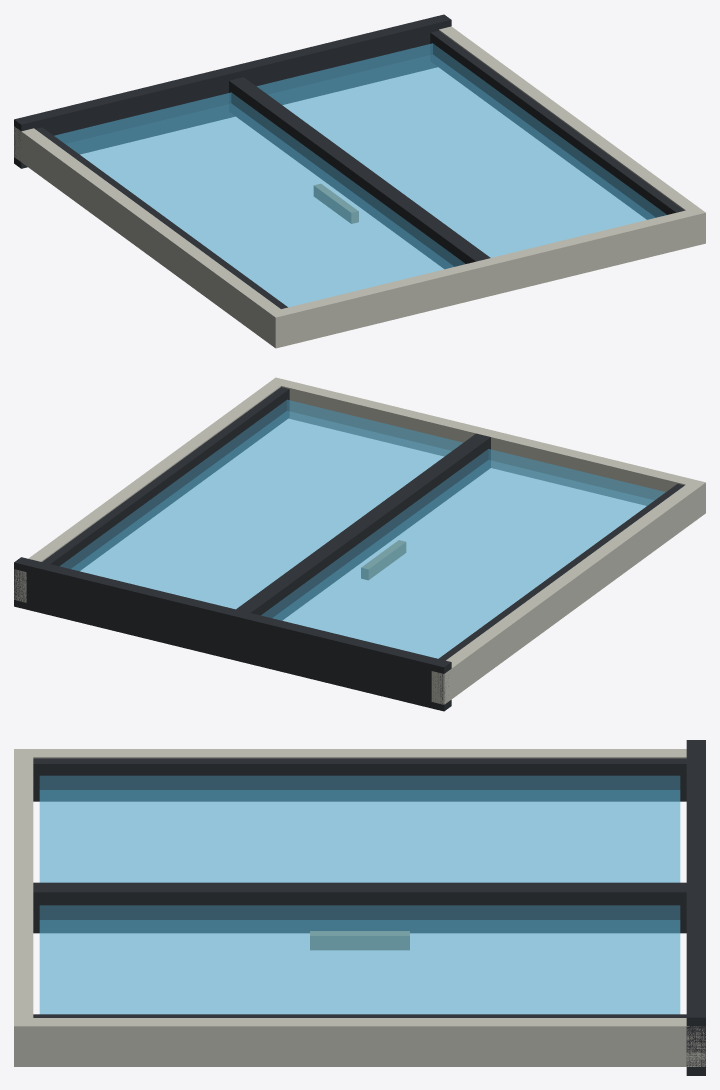
File: sliding_door.obj
3 views of the same model, one above another, from view 1: azimuth 30°, elevation 25°; view 2: azimuth 150°, elevation 25°; view 3: azimuth 270°, elevation 25° (orthographic). The views are drawn at different scales.
Parts seen in each view (by area): view 1: sliding_door; view 2: sliding_door; view 3: sliding_door.
Part boxes in pixels (left/top/right/bottom): sliding_door: left=14, top=14, right=705, bottom=348; sliding_door: left=14, top=377, right=705, bottom=711; sliding_door: left=14, top=740, right=705, bottom=1075.
Size of the model in its own units: 2.04 by 0.2 by 2.15.
